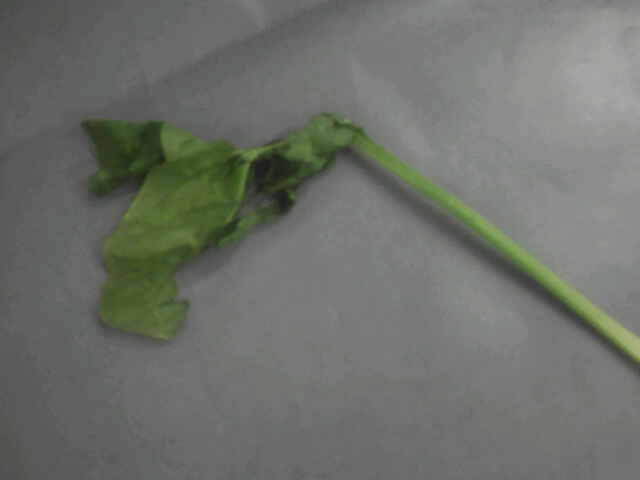yellow: (61, 57, 429, 379)
